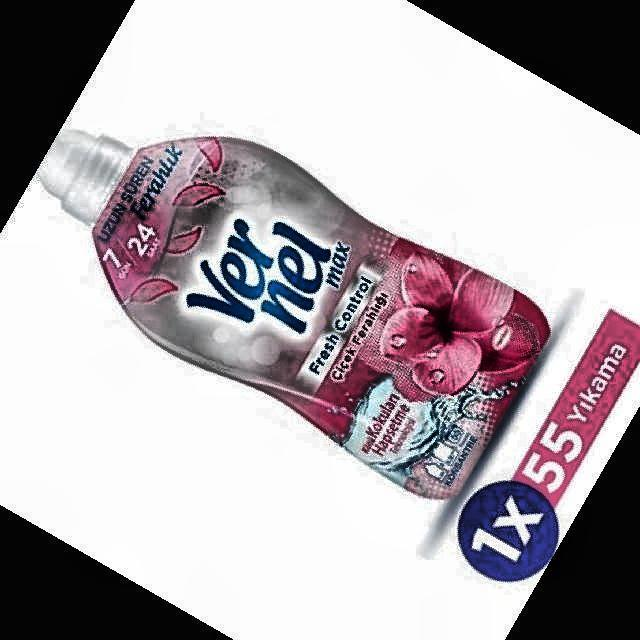plastic: (39, 129, 548, 498)
